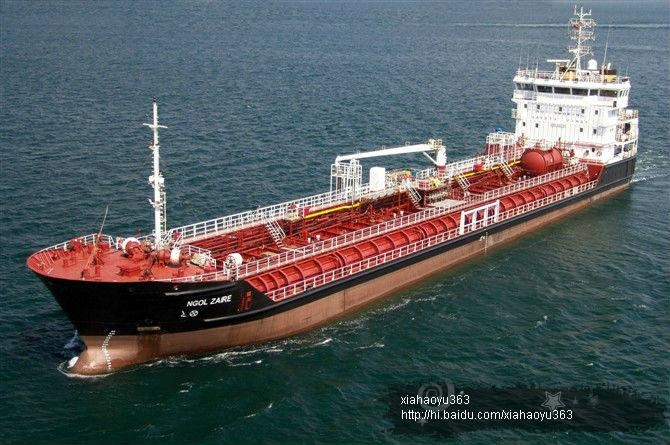Cargoship: (16, 4, 641, 374)
